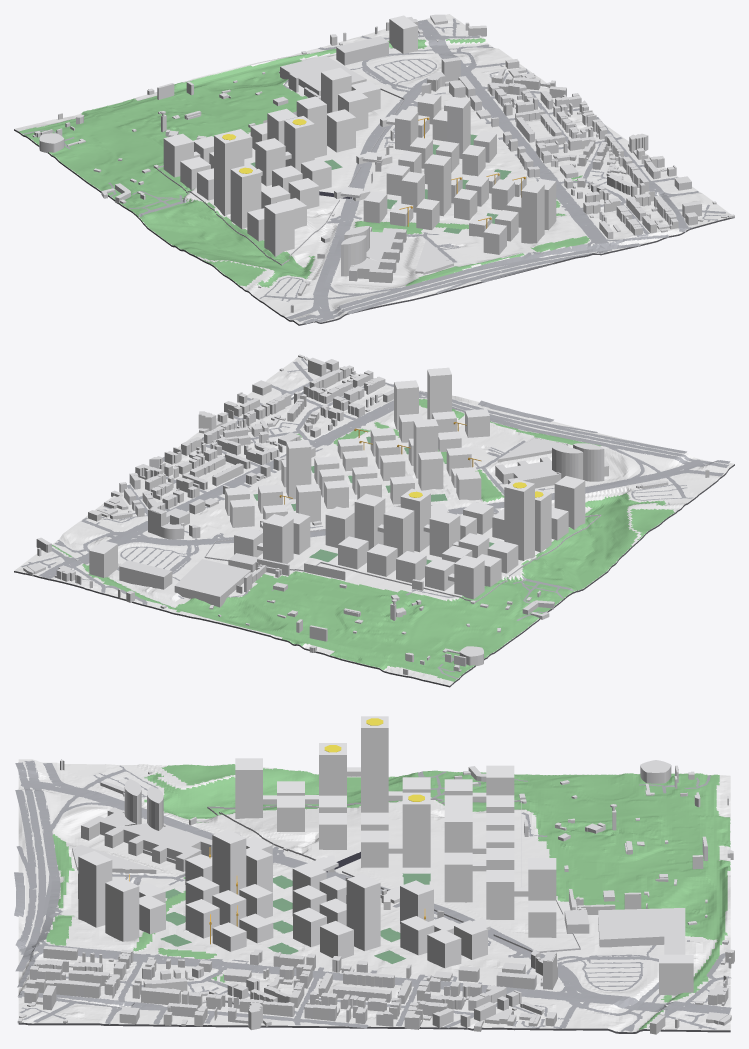
The model's file is Messe-Essen.glb.
The picture shows the model from 3 angles, top to bottom: view 1: azimuth 30°, elevation 25°; view 2: azimuth 150°, elevation 25°; view 3: azimuth 270°, elevation 25°; orthographic projection. The views are drawn at different scales.
Visible parts, largest first — view 1: Gelaende_Boden, Gelaende_Park, Bestand_Gebaeude, Gelaende_Strassen, Rot_Tuerme, Blau_Tuerme, Daecher_Tuerme_Boden, High_Square, Gelaende_Rand, Essen_Eins, Eon_Tuerme, ZECH_Haus (+3 smaller); view 2: Gelaende_Boden, Gelaende_Park, Bestand_Gebaeude, Blau_Tuerme, Rot_Tuerme, Gelaende_Strassen, Daecher_Tuerme_Boden, High_Square, Eon_Tuerme, Gelaende_Rand, Essen_Eins, ZECH_Haus (+2 smaller); view 3: Gelaende_Boden, Bestand_Gebaeude, Gelaende_Park, Gelaende_Strassen, Rot_Tuerme, Daecher_Tuerme_Boden, Blau_Tuerme, High_Square, Parks, Gelaende_Rand, Eon_Tuerme, ZECH_Haus (+4 smaller).
Boxes of the visible parts, bbox=[...] form: Gelaende_Boden: bbox=[14, 14, 731, 324]; Gelaende_Park: bbox=[19, 38, 589, 287]; Bestand_Gebaeude: bbox=[32, 14, 734, 322]; Gelaende_Strassen: bbox=[23, 18, 727, 323]; Rot_Tuerme: bbox=[363, 96, 556, 254]; Blau_Tuerme: bbox=[163, 72, 380, 241]; Daecher_Tuerme_Boden: bbox=[164, 67, 555, 234]; High_Square: bbox=[214, 136, 244, 215]; Gelaende_Rand: bbox=[14, 129, 734, 325]; Essen_Eins: bbox=[264, 206, 294, 256]; Eon_Tuerme: bbox=[341, 226, 369, 276]; ZECH_Haus: bbox=[389, 15, 417, 53]; Gelaende_Boden: bbox=[14, 357, 734, 685]; Gelaende_Park: bbox=[52, 398, 674, 681]; Bestand_Gebaeude: bbox=[23, 354, 709, 674]; Blau_Tuerme: bbox=[234, 493, 568, 599]; Rot_Tuerme: bbox=[225, 370, 489, 527]; Gelaende_Strassen: bbox=[21, 358, 730, 678]; Daecher_Tuerme_Boden: bbox=[225, 367, 584, 570]; High_Square: bbox=[504, 484, 534, 560]; Eon_Tuerme: bbox=[552, 443, 604, 481]; Gelaende_Rand: bbox=[14, 464, 734, 687]; Essen_Eins: bbox=[554, 481, 585, 529]; ZECH_Haus: bbox=[89, 540, 117, 577]; Gelaende_Boden: bbox=[18, 759, 730, 1032]; Bestand_Gebaeude: bbox=[17, 759, 734, 1034]; Gelaende_Park: bbox=[46, 764, 730, 1029]; Gelaende_Strassen: bbox=[14, 760, 731, 1031]; Rot_Tuerme: bbox=[78, 835, 487, 968]; Daecher_Tuerme_Boden: bbox=[78, 716, 556, 943]; Blau_Tuerme: bbox=[277, 755, 556, 937]; High_Square: bbox=[361, 728, 388, 812]; Parks: bbox=[160, 873, 430, 963]; Gelaende_Rand: bbox=[18, 1022, 730, 1033]; Eon_Tuerme: bbox=[124, 779, 163, 830]; ZECH_Haus: bbox=[659, 954, 693, 995].
Size of the model in its own units: 924 by 161 by 1033.
